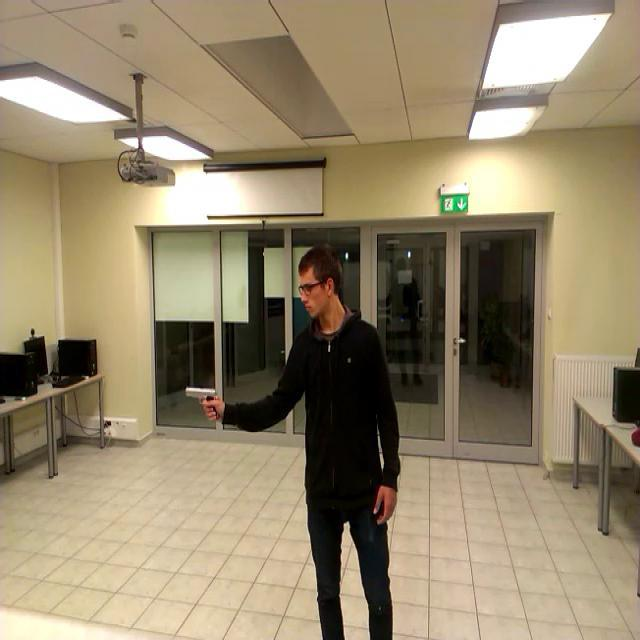Gun: (184, 386, 217, 414)
